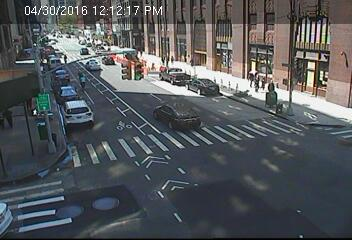neg: (24, 138, 56, 180), (253, 154, 284, 195), (257, 89, 286, 128), (63, 102, 91, 139), (111, 151, 139, 188), (113, 58, 135, 88), (207, 166, 229, 195), (164, 149, 186, 178), (187, 107, 205, 132), (77, 69, 94, 93), (122, 102, 137, 122)
pos: (3, 104, 24, 132)
